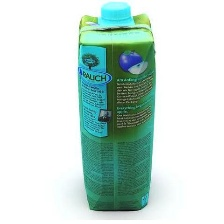carton: (77, 0, 158, 213)
